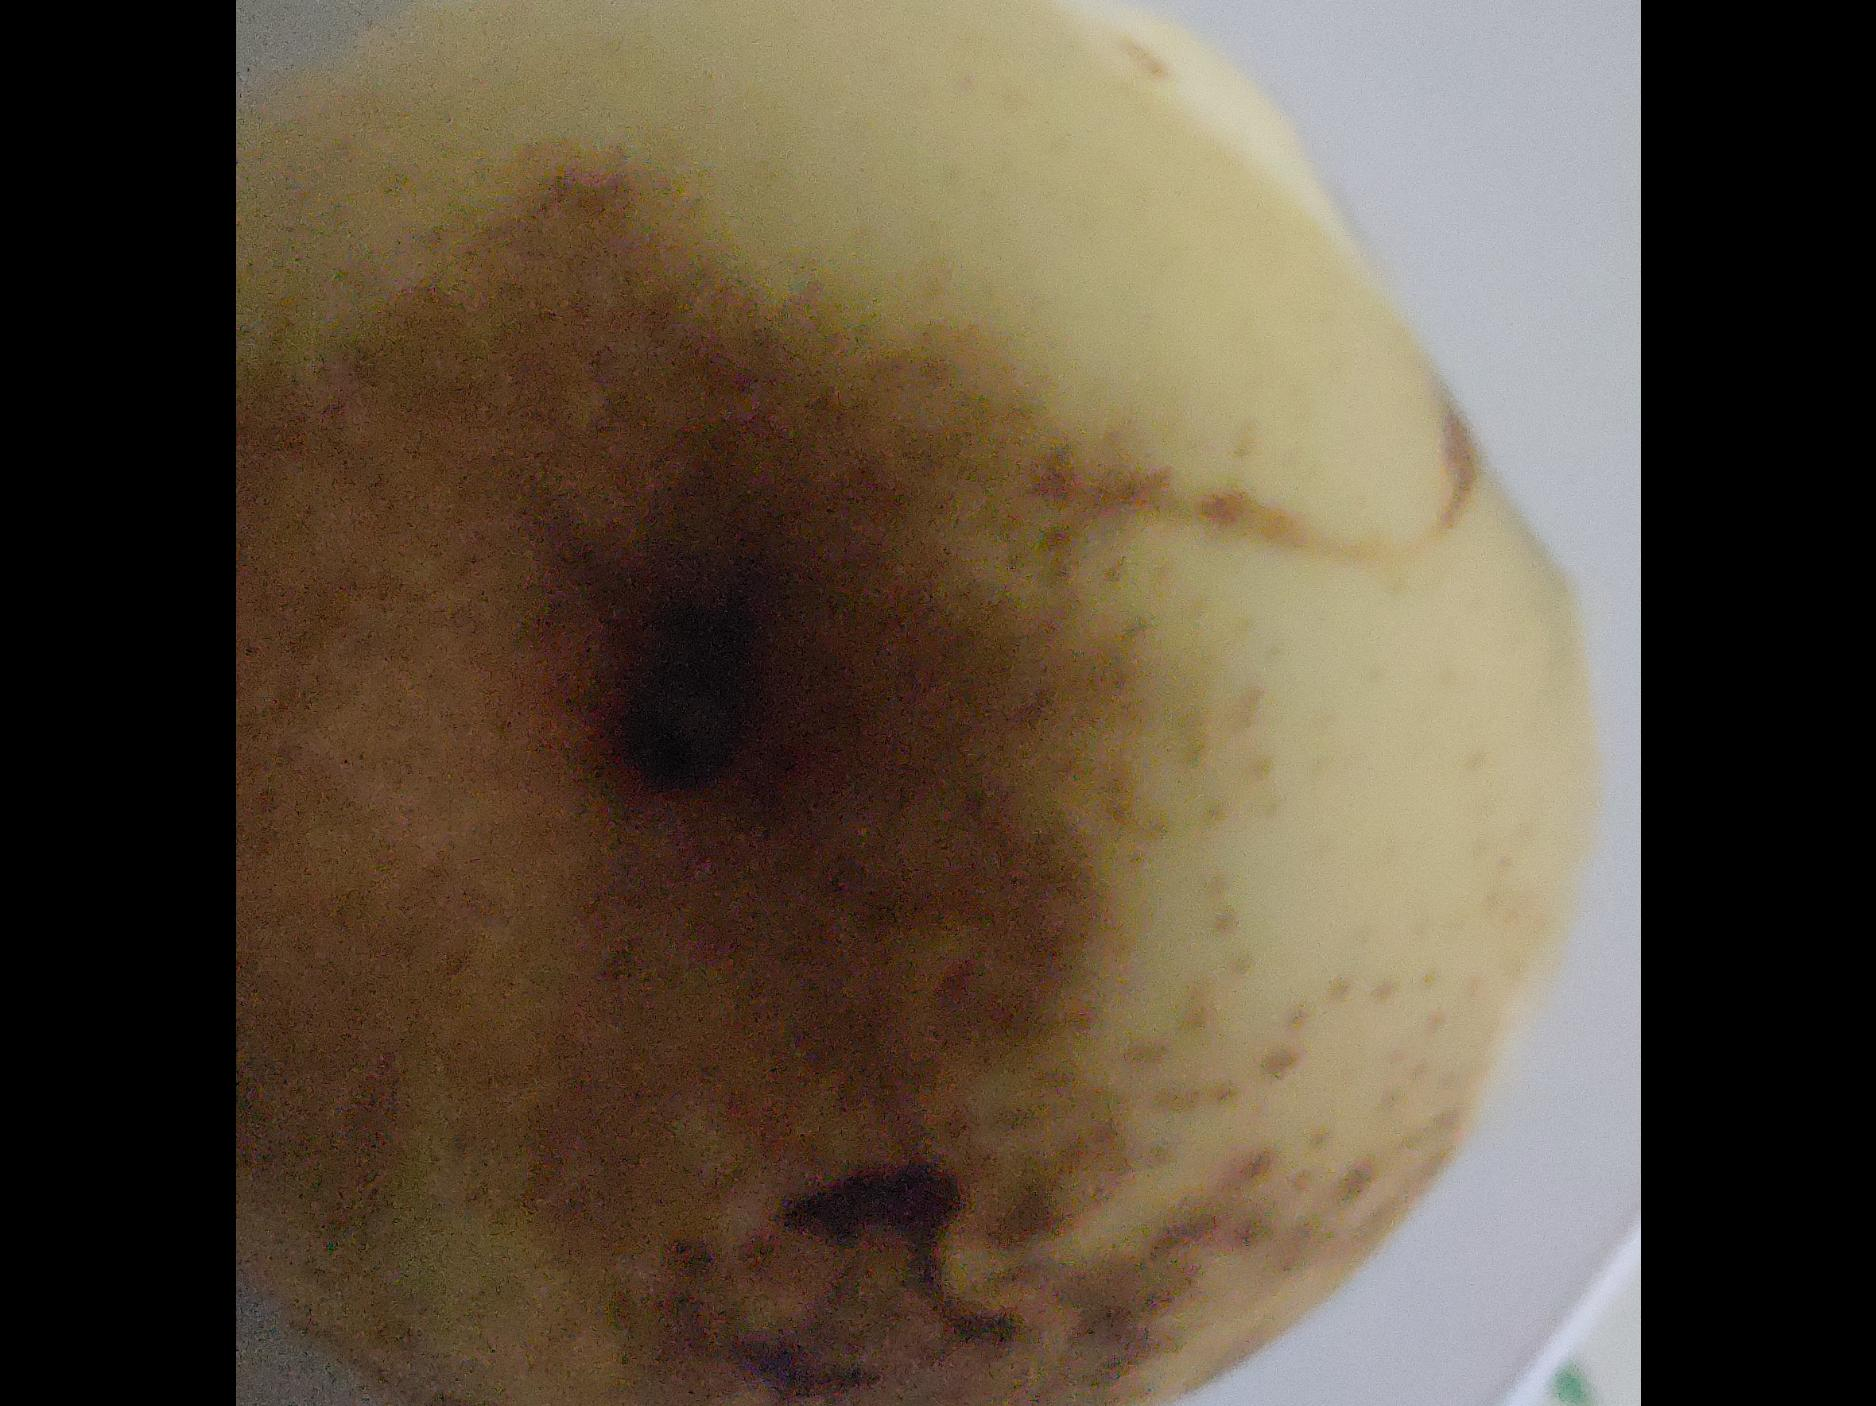Bad Pear: (235, 0, 1589, 1406)
